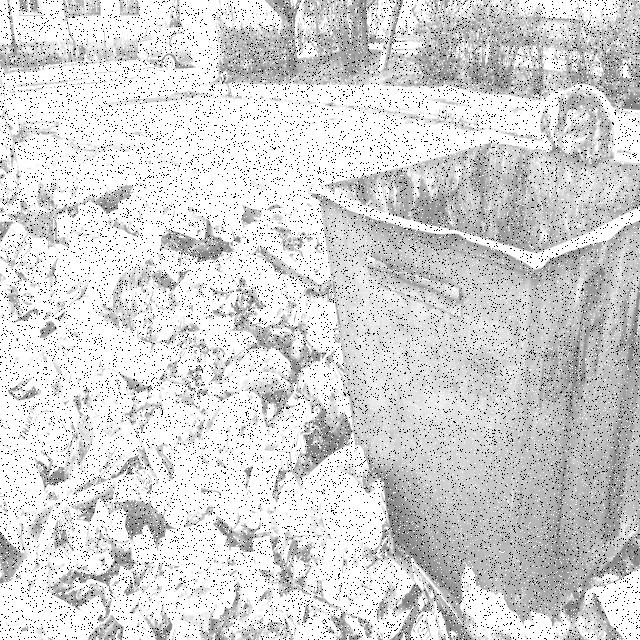Trashcan: (298, 111, 640, 614)
